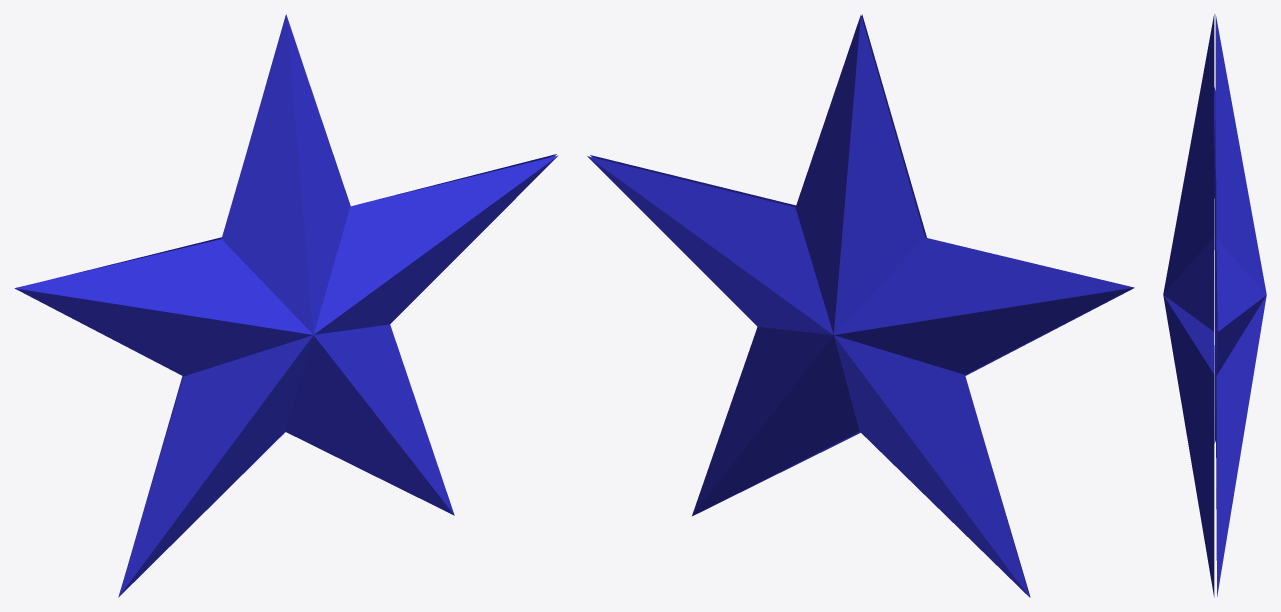
The model's file is star.gltf.
3 renders of one model, left to right at view 1: azimuth 30°, elevation 25°; view 2: azimuth 150°, elevation 25°; view 3: azimuth 270°, elevation 25°, orthographic. The views are drawn at different scales.
Visible parts, largest first — view 1: Circle.001_1, Circle_0; view 2: Circle_0, Circle.001_1; view 3: Circle_0, Circle.001_1.
Part boxes in pixels (x1,y1,x2,y2): Circle.001_1: (14, 15, 558, 597); Circle_0: (15, 14, 556, 582); Circle_0: (587, 15, 1133, 597); Circle.001_1: (590, 14, 1134, 597); Circle_0: (1214, 14, 1266, 596); Circle.001_1: (1163, 14, 1214, 597).
Bounding box in the file's own units: 3.23 × 3.07 × 0.567.
